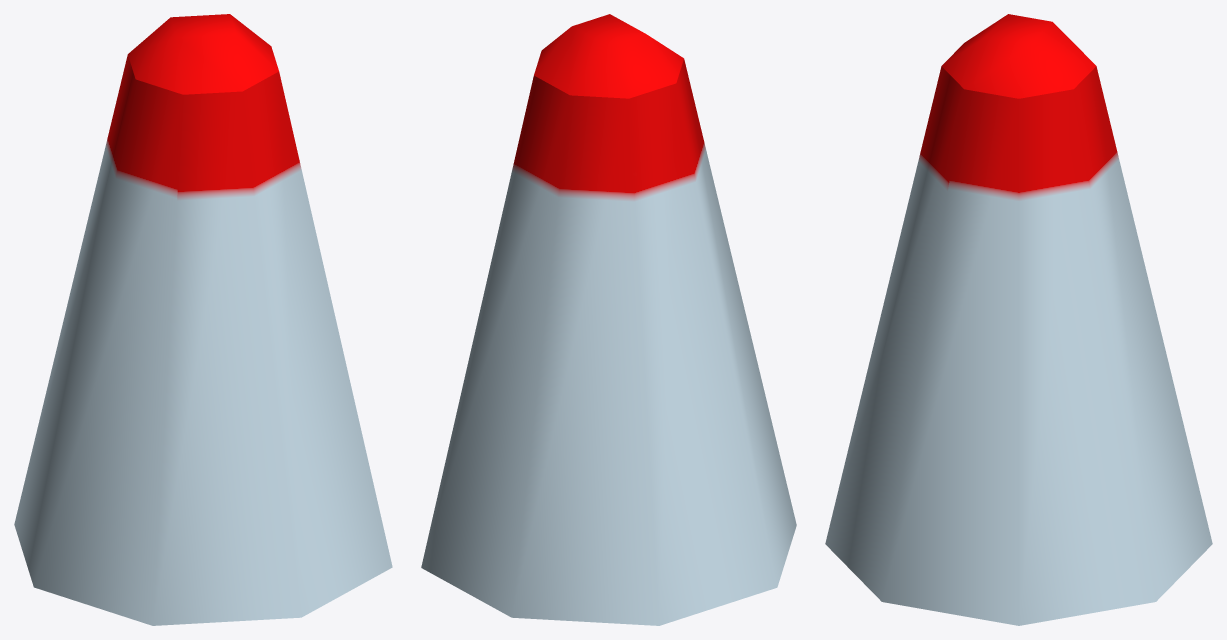
The model's file is Marker_busy.FBX.
3 renders of one model, left to right at view 1: azimuth 30°, elevation 25°; view 2: azimuth 150°, elevation 25°; view 3: azimuth 270°, elevation 25°, orthographic.
Parts seen in each view (by area): view 1: Marker_busy; view 2: Marker_busy; view 3: Marker_busy.
Part boxes in pixels (x1,y1,x2,y2): Marker_busy: (14,14,392,625); Marker_busy: (421,14,796,625); Marker_busy: (825,14,1212,625).
Size of the model in its own units: 3.01 by 4.4 by 3.01.
